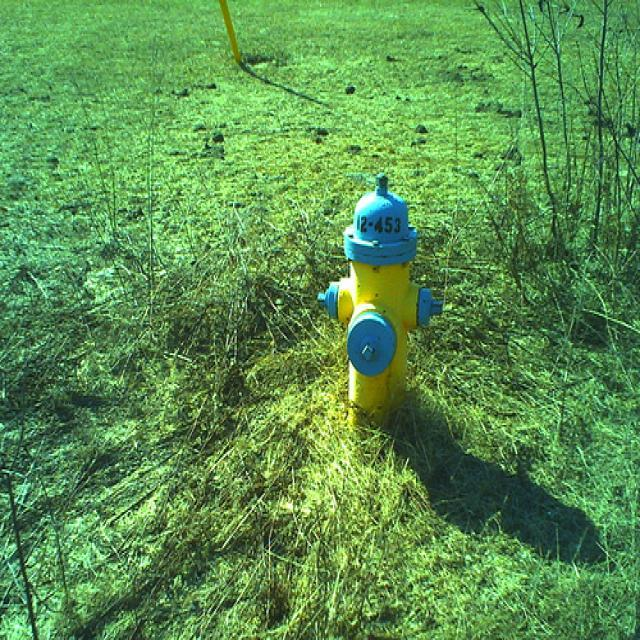fire_hydrant: (315, 172, 443, 448)
